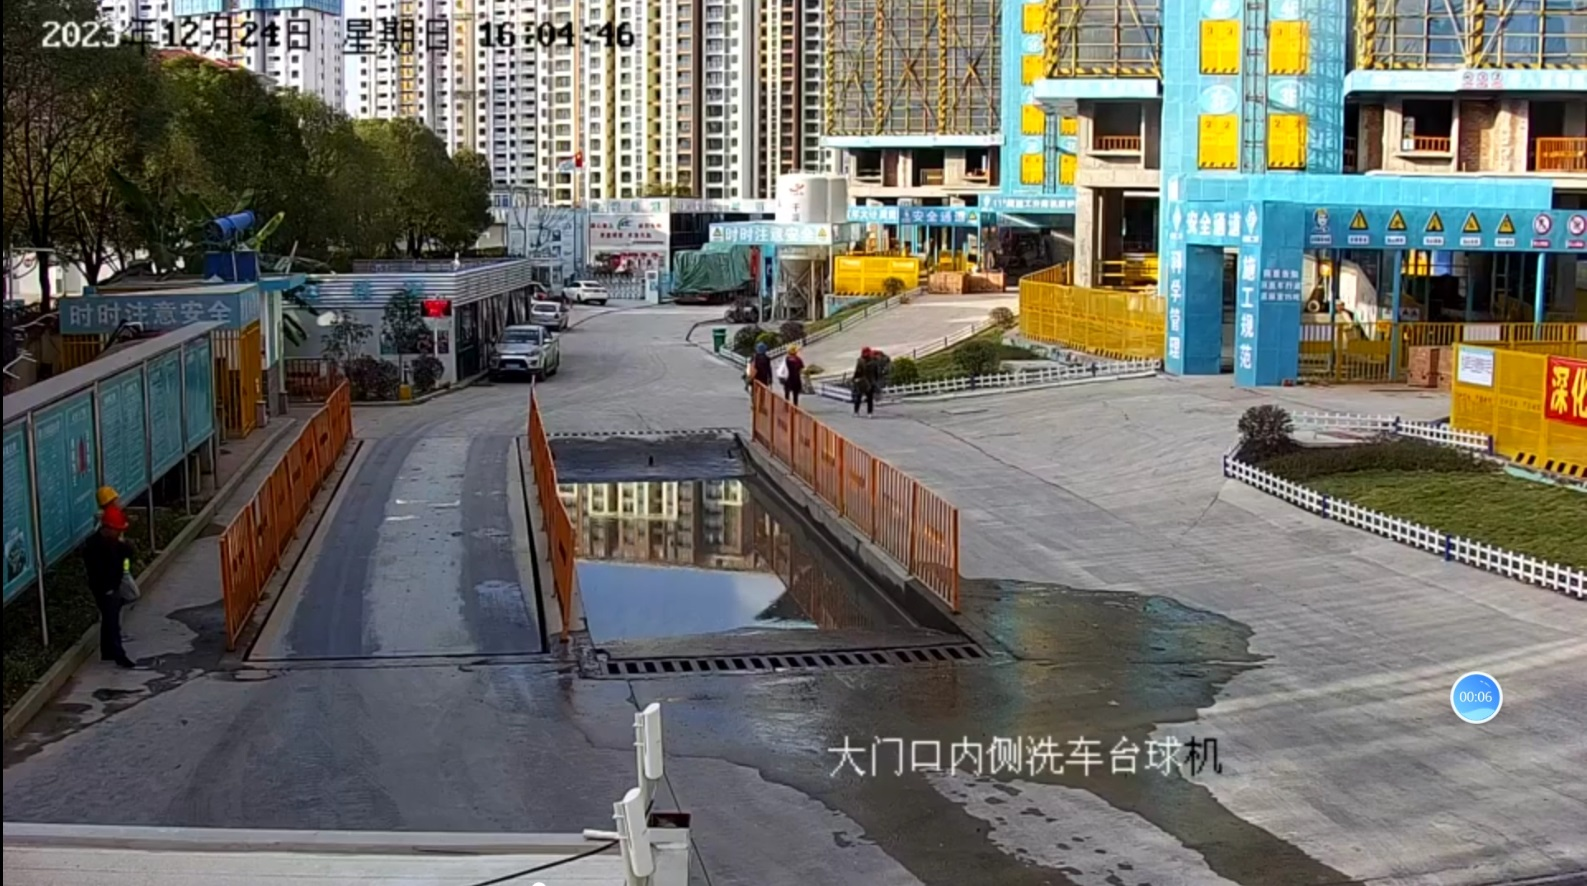person: (91, 508, 141, 670), (93, 481, 143, 612), (739, 340, 773, 414), (775, 344, 807, 415), (849, 346, 879, 417)
